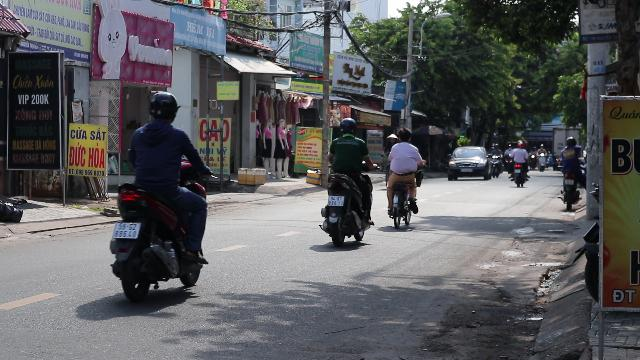helmet: (146, 91, 180, 125), (338, 117, 357, 135)
licenseplate: (113, 222, 139, 238), (328, 196, 344, 206)
motorcyclist: (109, 89, 213, 305), (318, 116, 376, 248), (384, 126, 424, 228)
